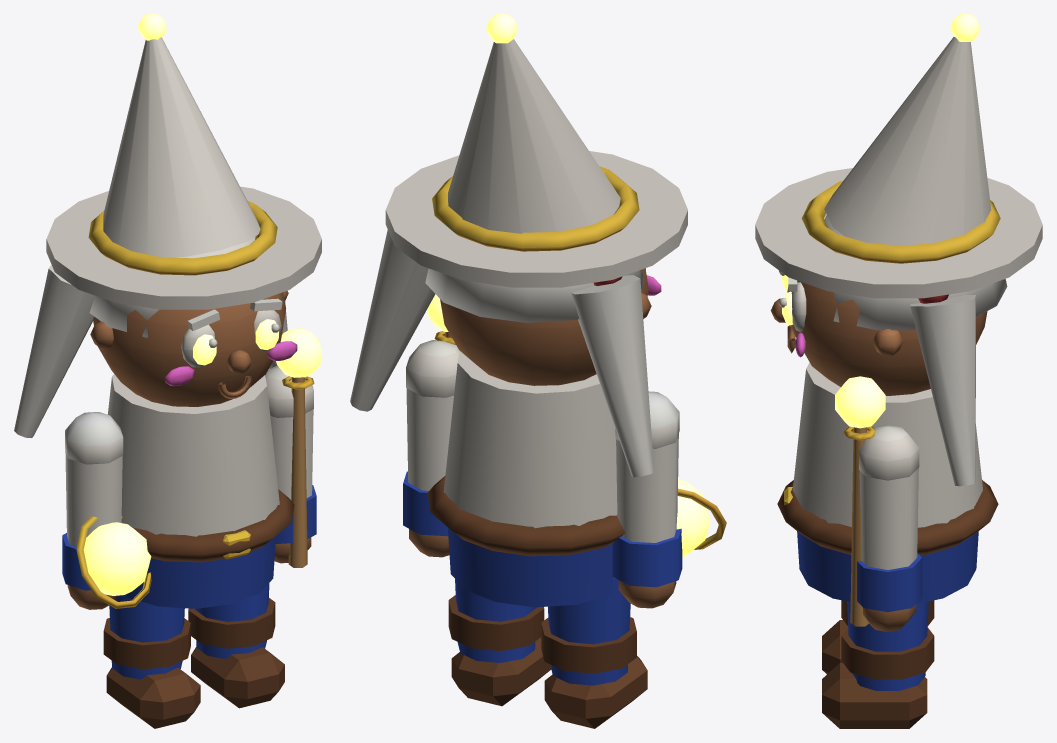
The model's file is hero_nova.glb.
3 views of the same model, side by side, from view 1: azimuth 30°, elevation 25°; view 2: azimuth 150°, elevation 25°; view 3: azimuth 270°, elevation 25° (orthographic). The views are drawn at different scales.
Parts seen in each view (by area): view 1: body_t0_palette, legl_t0_palette, arml_t0_palette, legr_t0_palette, armr_t0_palette, arml_t0_glow_gold, body_t0_glow_gold, armr_t0_glow_gold; view 2: body_t0_palette, arml_t0_palette, legl_t0_palette, legr_t0_palette, armr_t0_palette, arml_t0_glow_gold, body_t0_glow_gold; view 3: body_t0_palette, armr_t0_palette, legr_t0_palette, armr_t0_glow_gold, legl_t0_palette, body_t0_glow_gold.
Boxes of the visible parts, x1,y1,x2,y2 form: body_t0_palette: (14,37,321,608); legl_t0_palette: (103,594,200,728); arml_t0_palette: (62,412,151,609); legr_t0_palette: (188,583,284,708); armr_t0_palette: (265,366,316,567); arml_t0_glow_gold: (83,522,151,595); body_t0_glow_gold: (137,14,278,365); armr_t0_glow_gold: (276,328,321,377); body_t0_palette: (350,39,687,607); arml_t0_palette: (612,391,726,608); legl_t0_palette: (541,577,647,728); legr_t0_palette: (448,579,551,706); armr_t0_palette: (403,331,459,557); arml_t0_glow_gold: (676,479,710,557); body_t0_glow_gold: (486,14,518,43); body_t0_palette: (755,37,1042,603); armr_t0_palette: (843,425,922,631); legr_t0_palette: (822,601,934,728); armr_t0_glow_gold: (835,376,885,428); legl_t0_palette: (822,600,934,674); body_t0_glow_gold: (782,14,980,325).
Bounding box in the file's own units: 0.2989 × 0.684 × 0.26.
